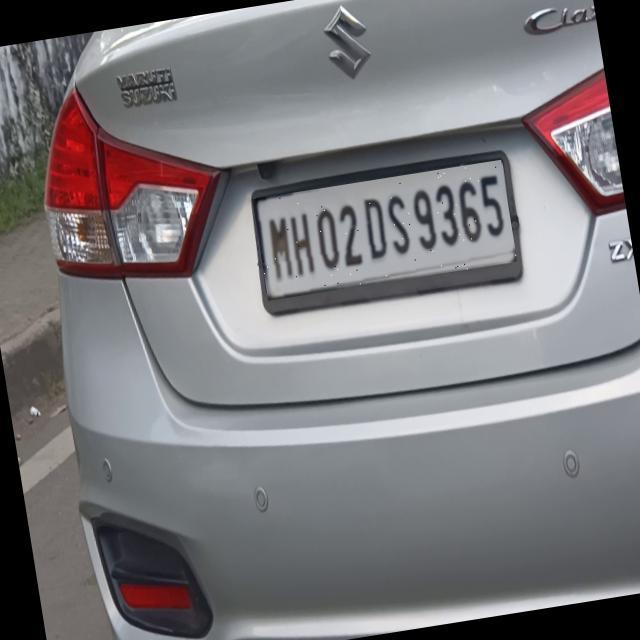Plate: (254, 161, 519, 302)
